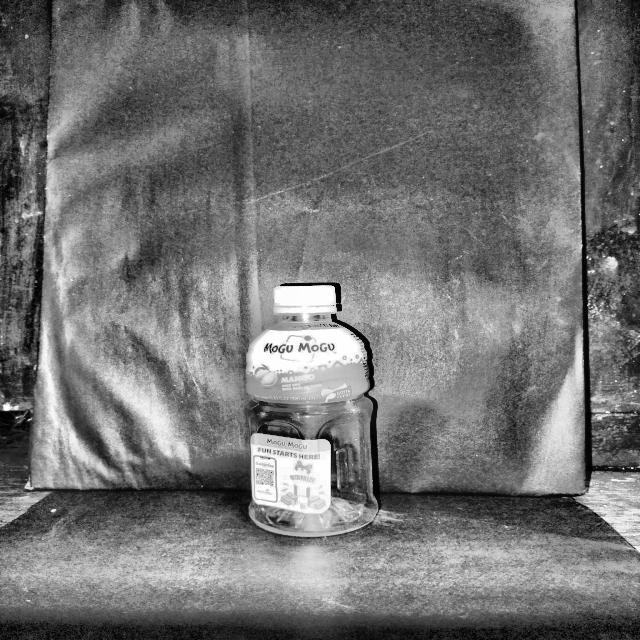Plastic-Bottle: (241, 282, 385, 539)
